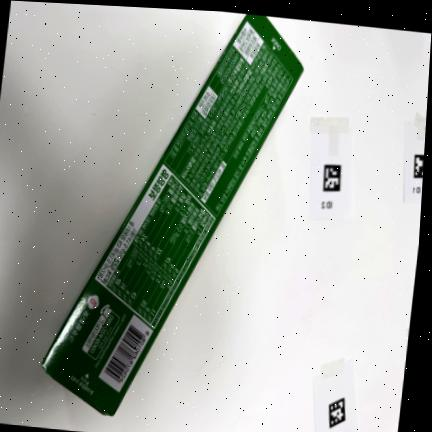cracker_vege: (42, 14, 303, 416)
